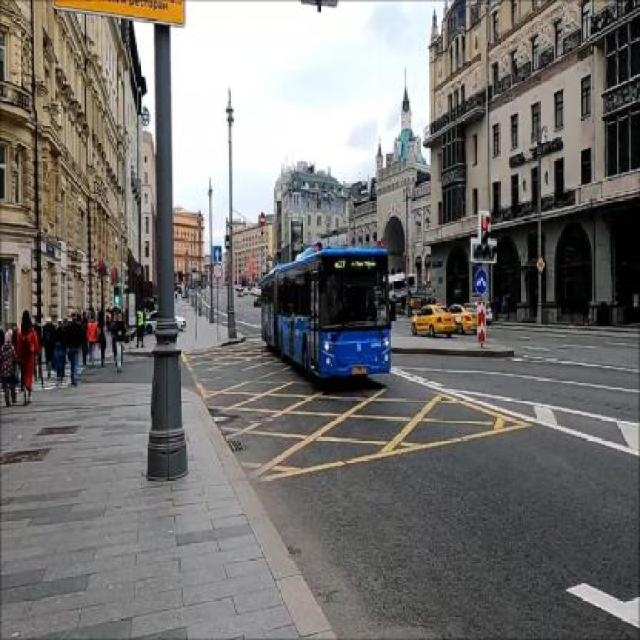Bus: (259, 245, 392, 386)
